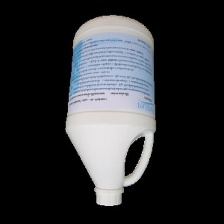cleaning_solution: (61, 11, 158, 208)
